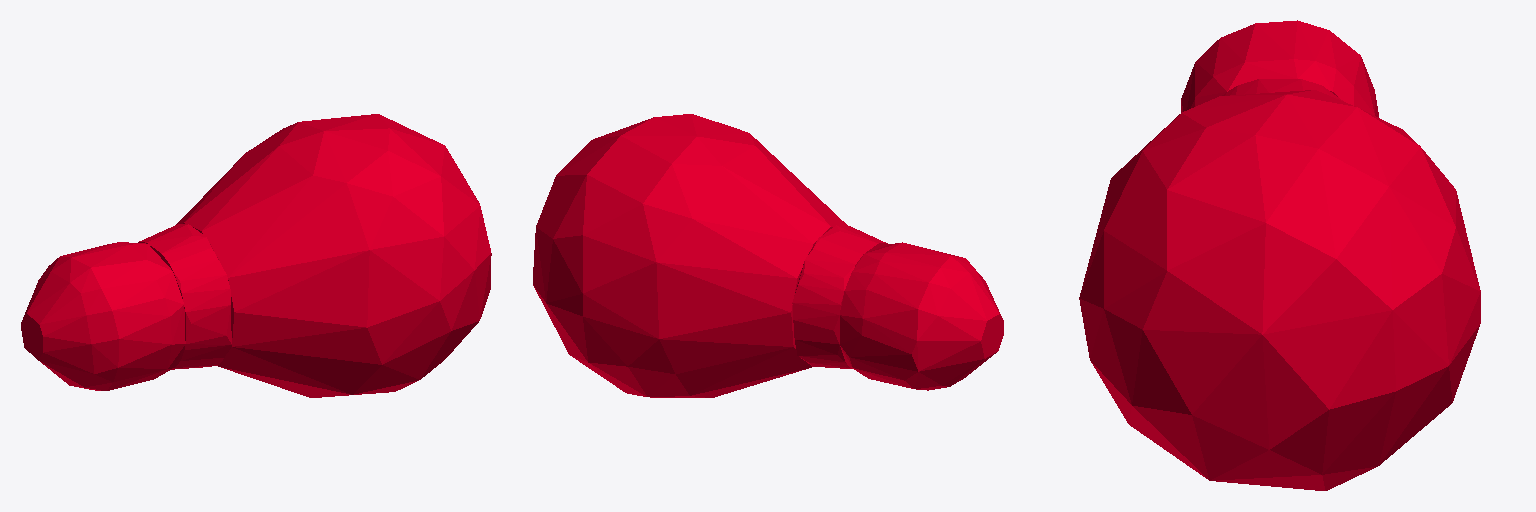
The robot description file, URDF, robot "light_bulb":
<robot name="light_bulb">
	<link name="_name">
		<visual>
			<origin xyz="-0.03368625989443739 -4.4123249867256745e-05 -0.0001876382247095895" rpy="0 0 0" />
			<geometry>
				<mesh filename="light_bulb_vhacd.obj" scale="0.75 0.75 0.75" />
			</geometry>
       		<material name="red">
        		<color rgba="0.9 0 0.2 1.0"/>
      		</material>
		</visual>
		<collision>
			<geometry>
				<mesh filename="light_bulb_vhacd.obj" scale="0.75 0.75 0.75" />
			</geometry>
		<origin xyz="-0.03368625989443739 -4.4123249867256745e-05 -0.0001876382247095895" rpy="0 0 0" /></collision>
		<inertial>
			<mass value="1.0" />
			<inertia ixx="1.0" ixy="0.0" ixz="0.0" iyy="1.0" iyz="0.0" izz="1.0" />
		</inertial>
	</link>
</robot>

--- Facts derived from the render (not from the file) ---
3 views of the same robot in one strip: view 1: azimuth 30°, elevation 25°; view 2: azimuth 150°, elevation 25°; view 3: azimuth 270°, elevation 25° (orthographic).
Robot: light_bulb — 1 links, 0 joints (none); root link _name; default pose: every joint at zero.
Visible links, largest first — view 1: _name; view 2: _name; view 3: _name.
Boxes of the visible links, x1=… form: _name: x1=21, y1=114, x2=491, y2=397; _name: x1=533, y1=114, x2=1003, y2=397; _name: x1=1079, y1=20, x2=1480, y2=490.
Bounding box of the posed robot: 0.0868 × 0.049 × 0.049 m (x, y, z).
1 mesh visuals loaded from 1 distinct referenced files (1 OBJ).
